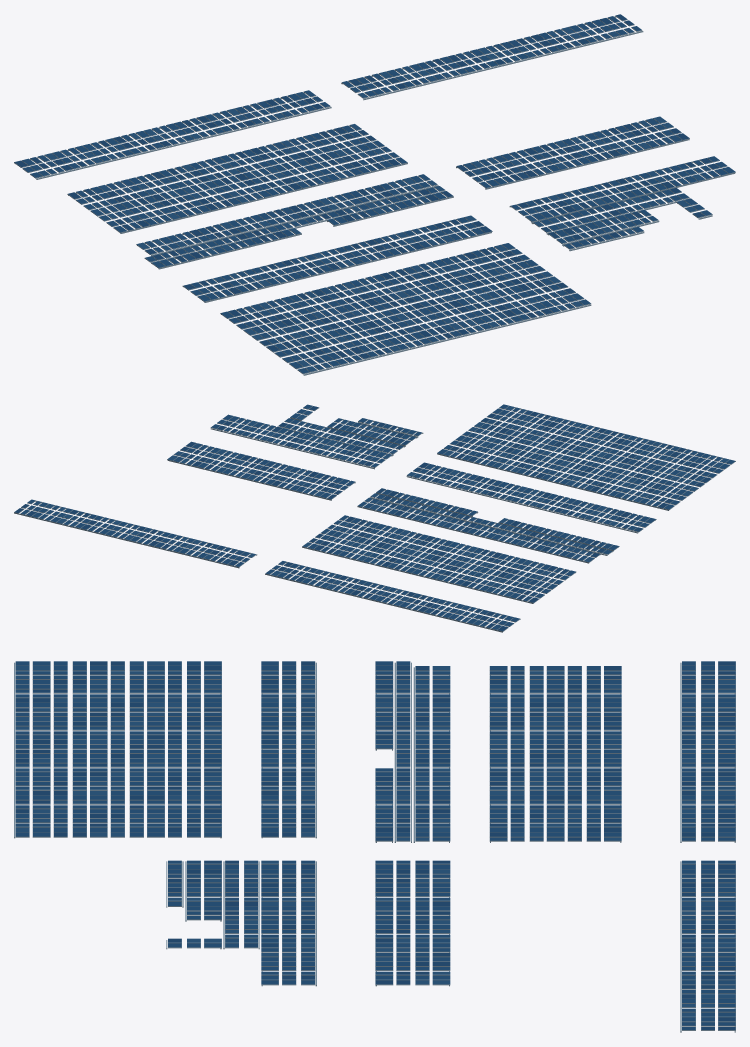
File: SM_MPRH_SolarBank_02_0.fbx
The picture shows the model from 3 angles, top to bottom: view 1: azimuth 30°, elevation 25°; view 2: azimuth 150°, elevation 25°; view 3: azimuth 270°, elevation 25°; orthographic projection. The views are drawn at different scales.
Visible parts, largest first — view 1: SM_MPRH_SolarBank_02_0; view 2: SM_MPRH_SolarBank_02_0; view 3: SM_MPRH_SolarBank_02_0.
Part boxes in pixels (x1,y1,x2,y2): SM_MPRH_SolarBank_02_0: (14, 14, 735, 375); SM_MPRH_SolarBank_02_0: (14, 404, 735, 632); SM_MPRH_SolarBank_02_0: (14, 661, 735, 1032).
Bounding box in the file's own units: 8944 × 7395 × 24.6.
